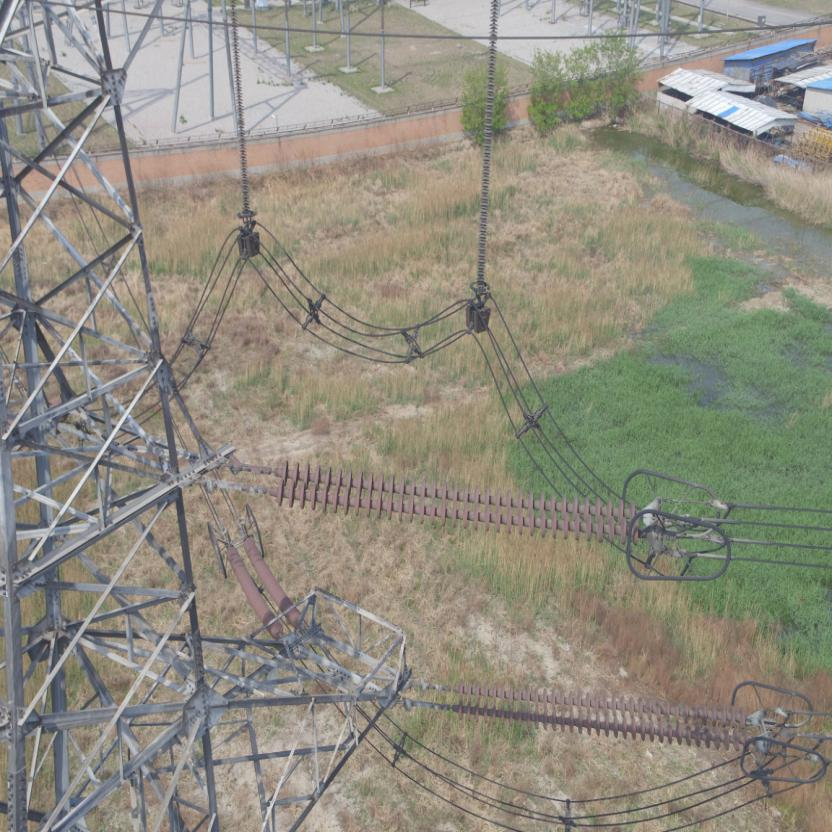insulator: (252, 455, 654, 546), (434, 668, 762, 754)
